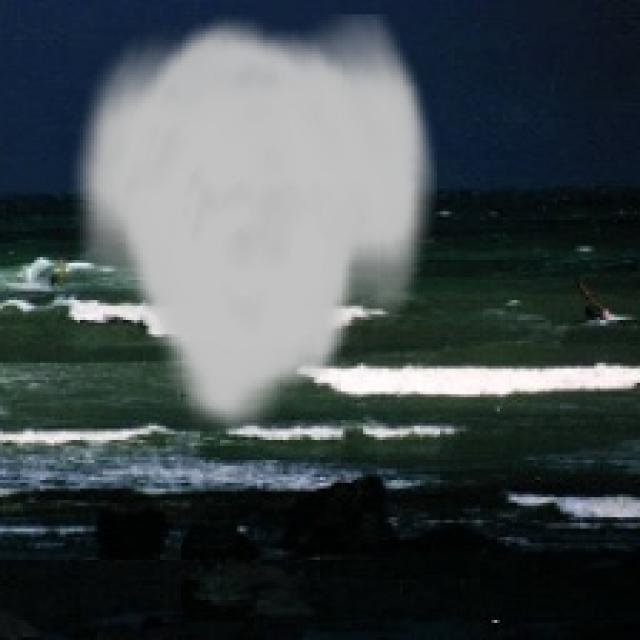smoke: (66, 14, 437, 437)
